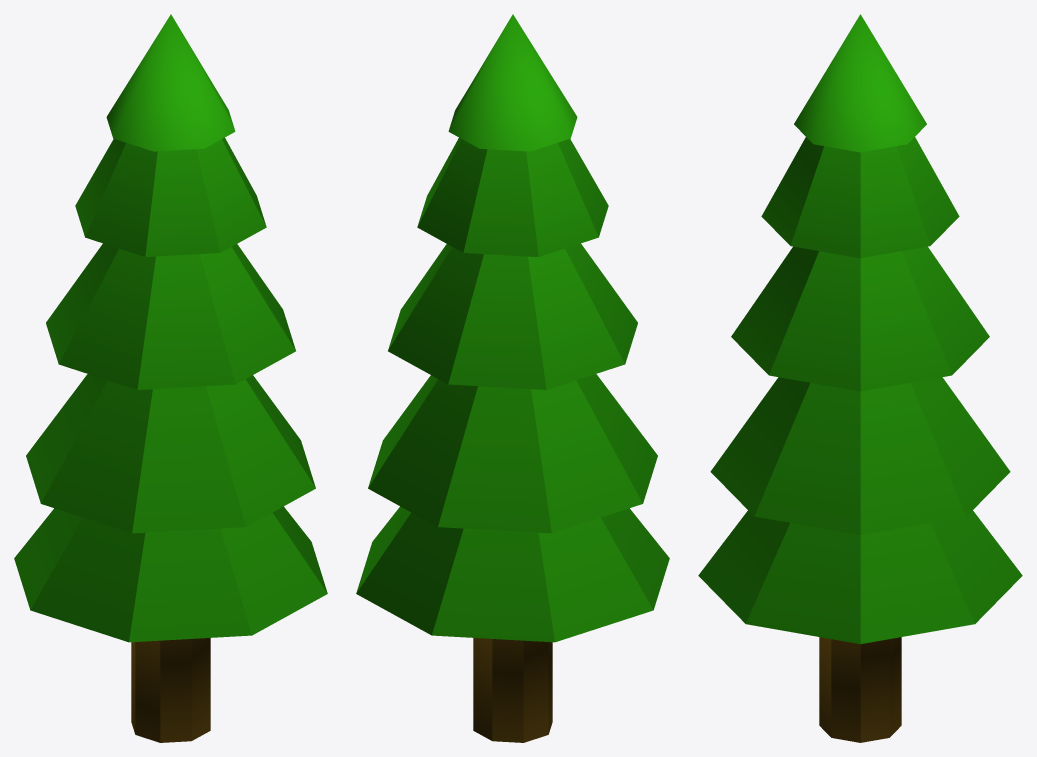
File: PineTree.fbx
3 renders of one model, left to right at view 1: azimuth 30°, elevation 25°; view 2: azimuth 150°, elevation 25°; view 3: azimuth 270°, elevation 25°, orthographic.
Visible parts, largest first — view 1: Tree_Pine_04; view 2: Tree_Pine_04; view 3: Tree_Pine_04.
Part boxes in pixels (box(x1,y1,x2,y2)): Tree_Pine_04: box(14, 14, 327, 742); Tree_Pine_04: box(356, 14, 669, 742); Tree_Pine_04: box(698, 14, 1022, 742).
Size of the model in its own units: 7.88 by 19.07 by 7.88.
